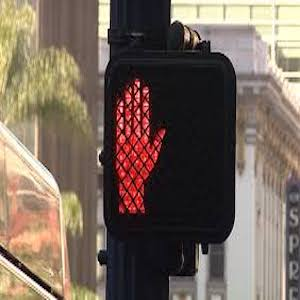red: (105, 76, 161, 221)
